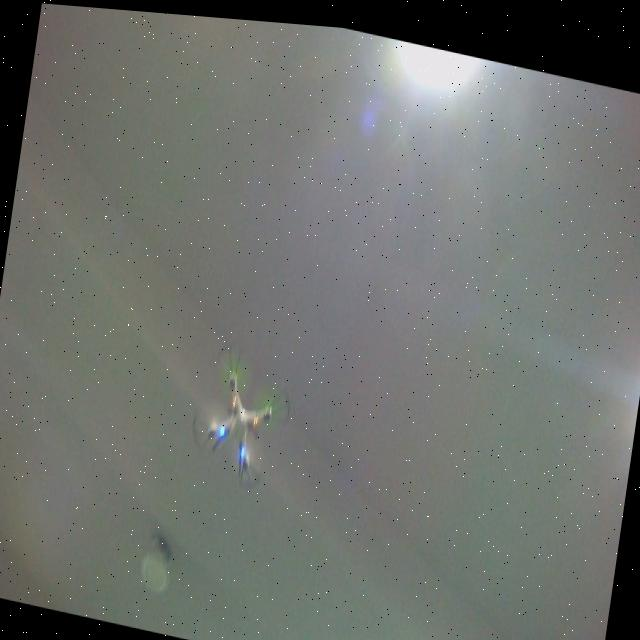drone: (183, 327, 301, 496)
